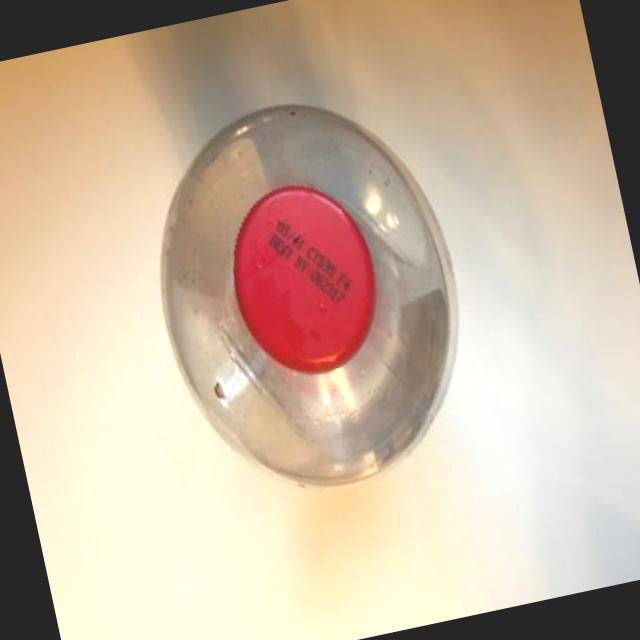Trash: (122, 67, 494, 518)
